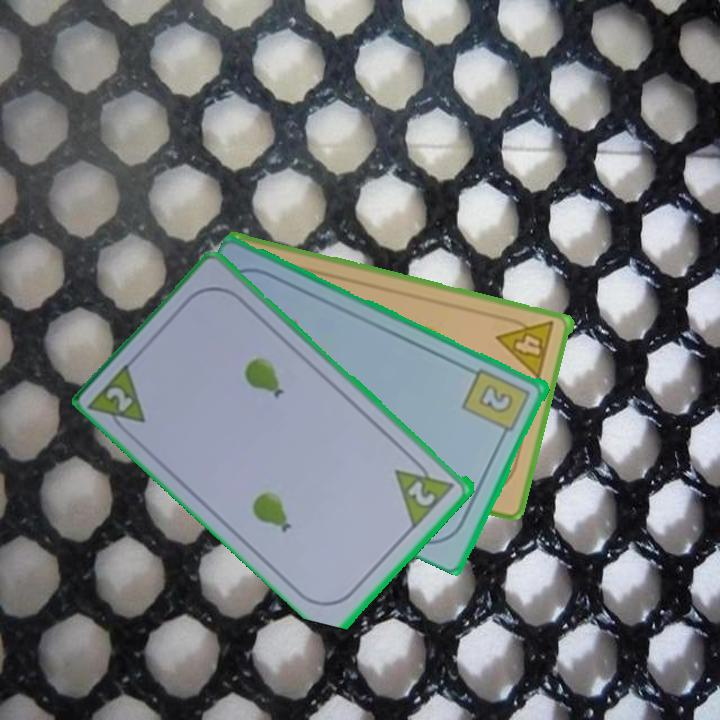2b: (459, 364, 534, 442)
2p: (86, 357, 150, 441), (392, 451, 459, 530)
4p: (494, 312, 558, 382)
